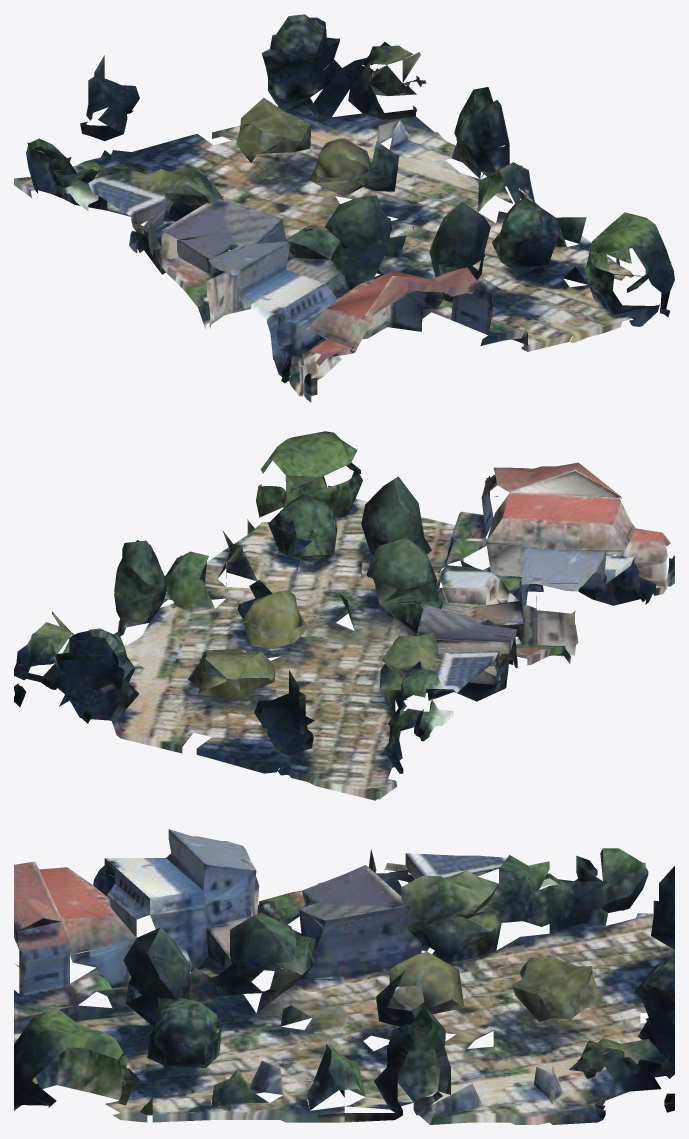
3 views of the same model, one above another, from view 1: azimuth 30°, elevation 25°; view 2: azimuth 150°, elevation 25°; view 3: azimuth 270°, elevation 25° (orthographic). The views are drawn at different scales.
Visible parts, largest first — view 1: 3043627270436152670_0; view 2: 3043627270436152670_0; view 3: 3043627270436152670_0.
Part boxes in pixels (box(x1,y1,x2,y2)): 3043627270436152670_0: box(14, 14, 674, 402); 3043627270436152670_0: box(14, 431, 674, 800); 3043627270436152670_0: box(14, 829, 674, 1124).
Bounding box in the file's own units: 54.62 × 16.34 × 76.52.
1 material, 1 textured.
